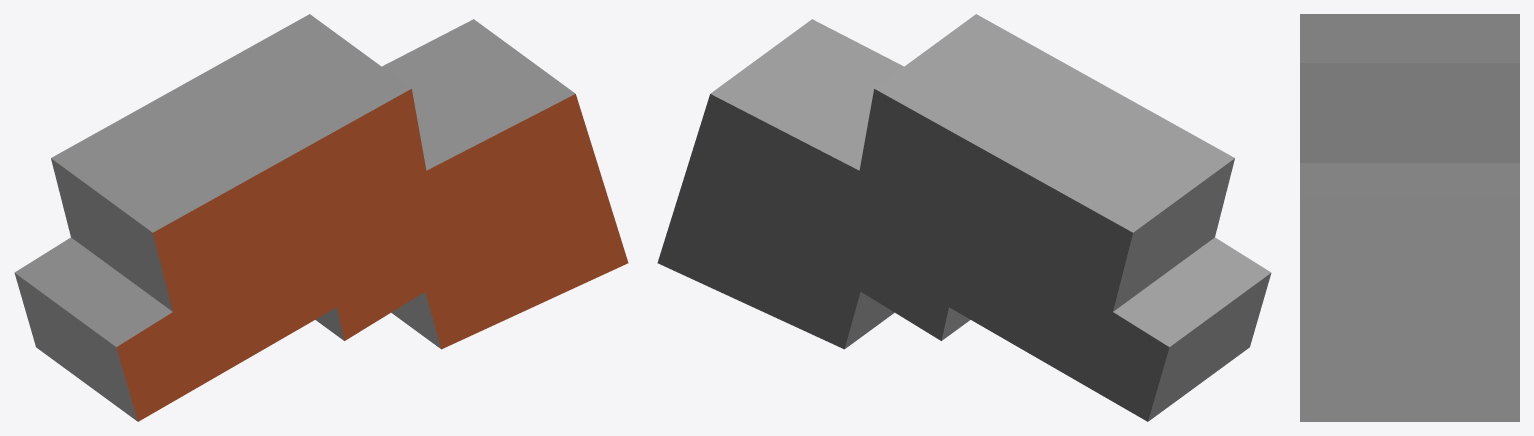
File: construction_1049_assumed_A_Casa_h6m.obj
3 views of the same model, side by side, from view 1: azimuth 30°, elevation 25°; view 2: azimuth 150°, elevation 25°; view 3: azimuth 270°, elevation 25° (orthographic). The views are drawn at different scales.
Visible parts, largest first — view 1: construction_1049_assumed_A_Casa; view 2: construction_1049_assumed_A_Casa; view 3: construction_1049_assumed_A_Casa.
Part boxes in pixels (<box>): construction_1049_assumed_A_Casa: <box>14,14,628,421</box>; construction_1049_assumed_A_Casa: <box>657,14,1271,421</box>; construction_1049_assumed_A_Casa: <box>1300,14,1519,421</box>.
Size of the model in its own units: 17.39 by 8.7 by 6.
